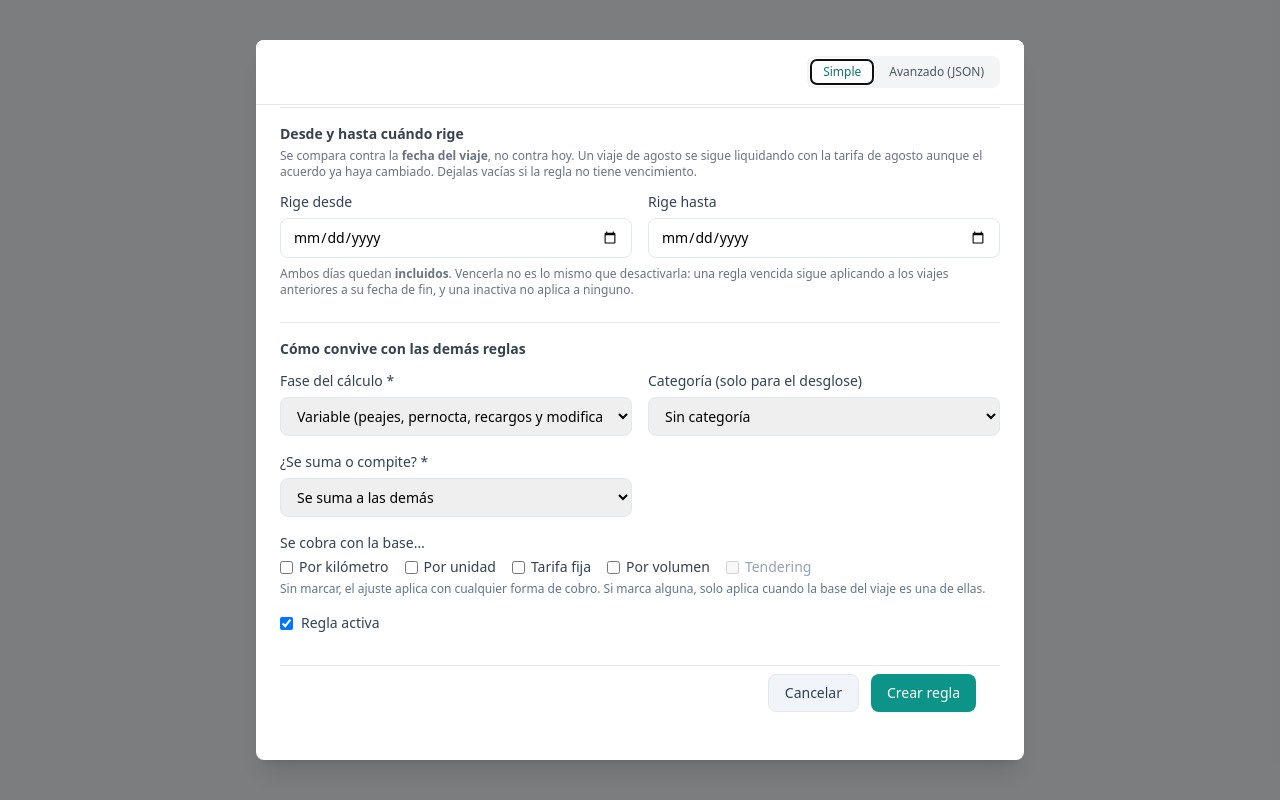
Scenario: RuleModal (caracterización) › el modo "compite" exige el grupo de exclusión
(page scrolled)
Select "Compite: gana la de monto más alto del grupo" in the dropdown labelled "¿Se suma o compite? *" at x=456, y=498, box [280, 478, 632, 517]
(page scrolled)
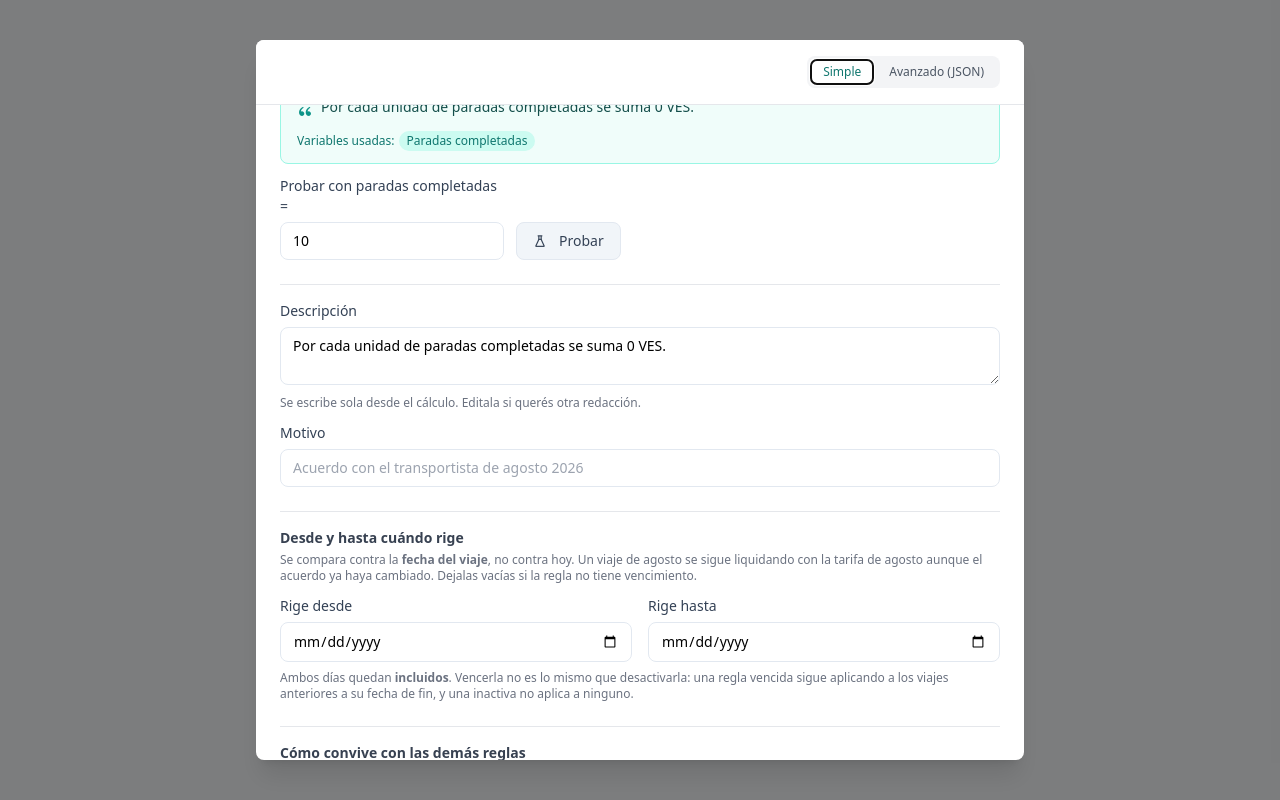
Submit the form
(page scrolled)
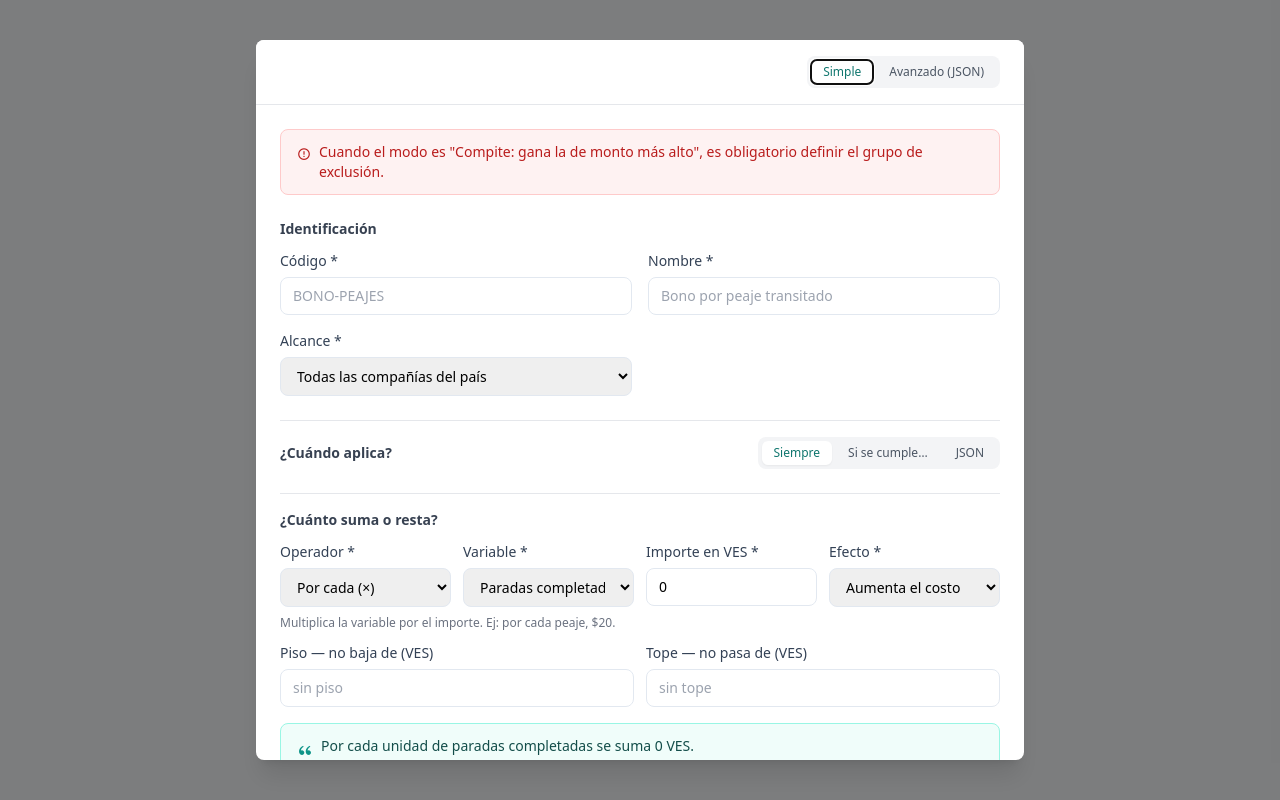
Now the text "es obligatorio definir el grupo de exclusión" is shown, box [319, 142, 923, 181]
